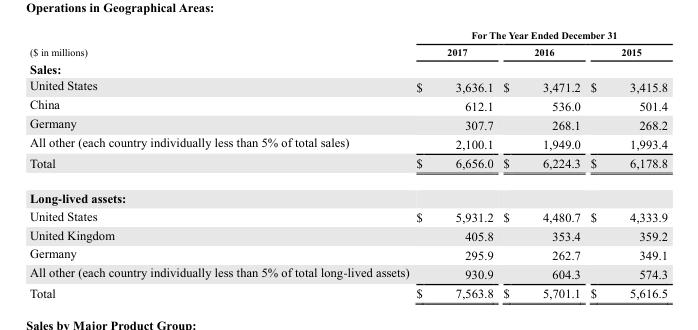table: (28, 29, 666, 299)
table column: (28, 29, 412, 299), (497, 29, 584, 299), (412, 29, 497, 299), (584, 29, 666, 299)
table column header: (28, 29, 666, 59)
table projected row header: (28, 179, 666, 206), (28, 59, 666, 77)
table row: (28, 152, 666, 179), (28, 179, 666, 206), (28, 95, 666, 114), (28, 114, 666, 133), (28, 133, 666, 152), (28, 206, 666, 225), (28, 225, 666, 244), (28, 244, 666, 263), (28, 263, 666, 282), (28, 59, 666, 77), (28, 77, 666, 95), (28, 282, 666, 299), (28, 43, 666, 59), (28, 29, 666, 43)
table spanning cell: (28, 29, 412, 59), (412, 29, 666, 43)
